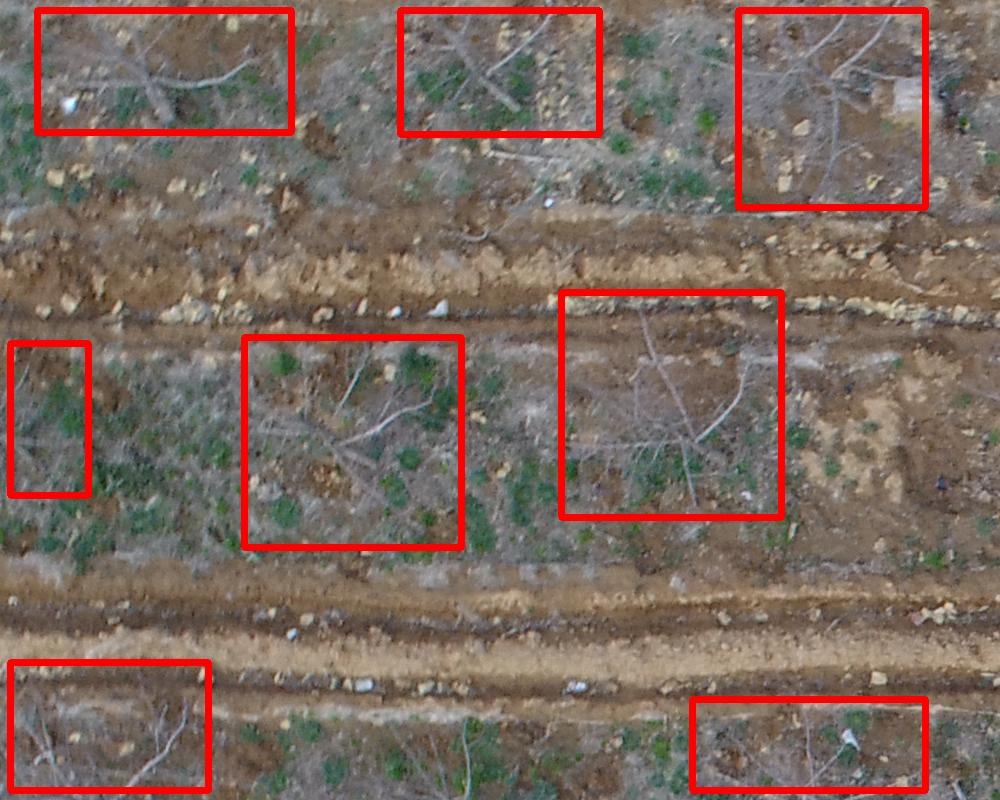apple: (561, 292, 781, 517), (244, 337, 461, 547), (738, 10, 925, 207), (37, 10, 291, 132), (10, 662, 208, 790), (400, 10, 599, 134), (692, 699, 925, 790), (10, 343, 88, 495)
